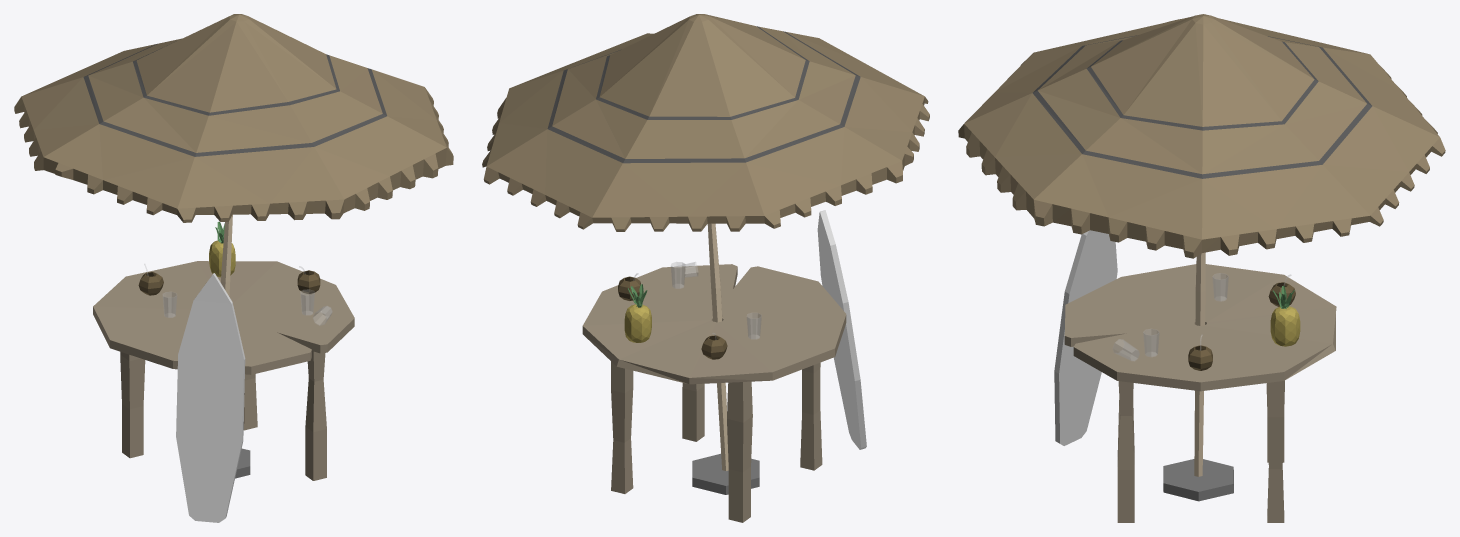
The model's file is parasoltafel.fbx.
3 renders of one model, left to right at view 1: azimuth 30°, elevation 25°; view 2: azimuth 150°, elevation 25°; view 3: azimuth 270°, elevation 25°, orthographic. The views are drawn at different scales.
Visible parts, largest first — view 1: polySurface21, pCylinder9, surfboard1, polySurface23, polySurface22, polySurface26, ananas, polySurface19; view 2: polySurface21, pCylinder9, surfboard1, polySurface22, polySurface26, polySurface19, polySurface20, polySurface23, ananas; view 3: polySurface21, pCylinder9, surfboard1, polySurface26, polySurface19, polySurface23, ananas, cocusnut1.
Part boxes in pixels (box(x1,y1,x2,y2)): polySurface21: box(14, 14, 453, 222); pCylinder9: box(93, 261, 354, 374); surfboard1: box(176, 273, 245, 522); polySurface23: box(305, 351, 326, 480); polySurface22: box(120, 352, 145, 458); polySurface26: box(220, 214, 250, 478); ananas: box(209, 221, 235, 277); polySurface19: box(243, 374, 257, 430); polySurface21: box(482, 14, 929, 231); pCylinder9: box(582, 264, 846, 384); surfboard1: box(817, 210, 866, 449); polySurface22: box(727, 381, 752, 522); polySurface26: box(692, 223, 759, 494); polySurface19: box(611, 361, 633, 493); polySurface20: box(800, 362, 822, 470); polySurface23: box(682, 383, 704, 441); ananas: box(624, 284, 651, 342); polySurface21: box(958, 14, 1445, 258); pCylinder9: box(1064, 264, 1336, 391); surfboard1: box(1054, 230, 1117, 445); polySurface26: box(1163, 252, 1233, 501); polySurface19: box(1267, 381, 1284, 522); polySurface23: box(1117, 381, 1134, 522); ananas: box(1270, 286, 1300, 346); cocusnut1: box(1188, 334, 1212, 370).
Bounding box in the file's own units: 20.59 × 22.49 × 20.62.
